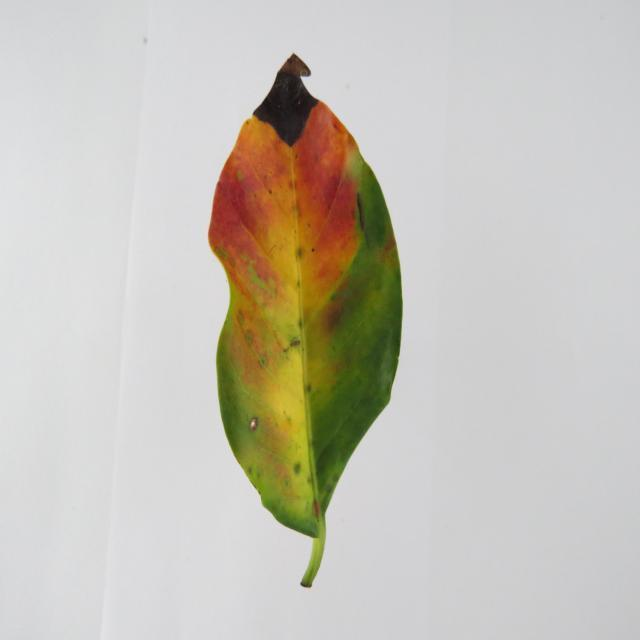DeficienciaNutricional-Fosforo: (209, 55, 402, 587)
